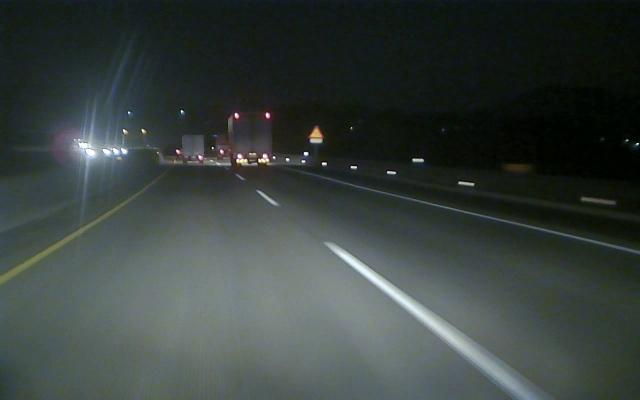lane: (256, 191, 547, 399), (331, 179, 640, 255), (4, 194, 139, 282)
